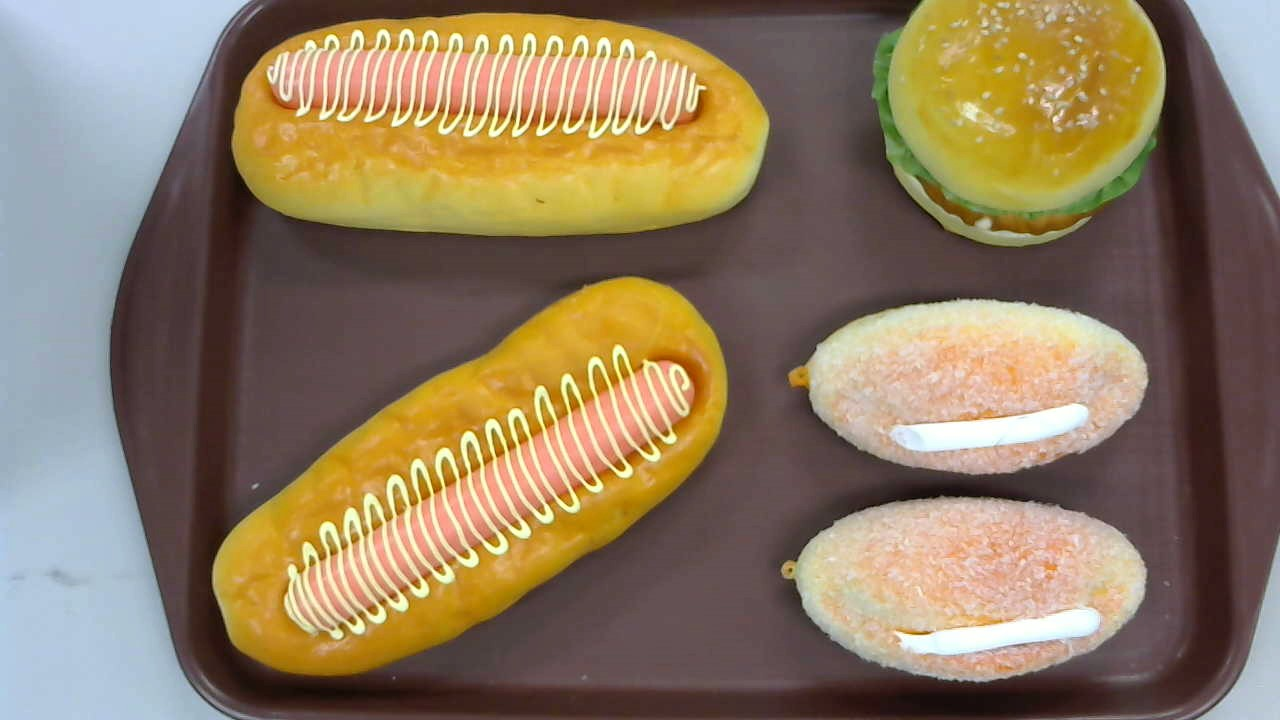coconut: (781, 496, 1149, 683), (786, 298, 1150, 476)
hamburger: (870, 1, 1168, 247)
hot dog: (211, 275, 729, 677), (230, 9, 770, 237)
